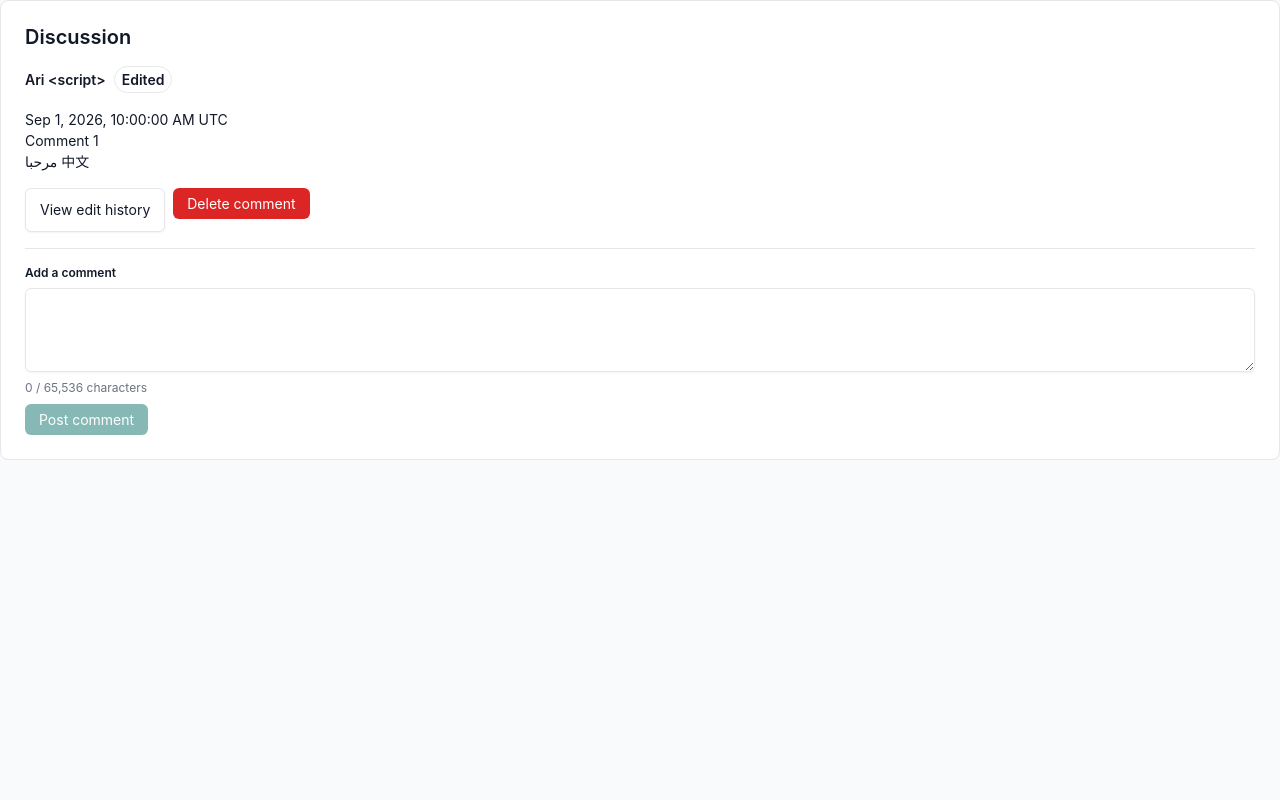
Test: Discussion lifecycle authority › lets only an administrator confirm deletion and replaces success with the server tombstone
Step 1. Click the button "Delete comment" → (241,203), box [173,188,310,219]
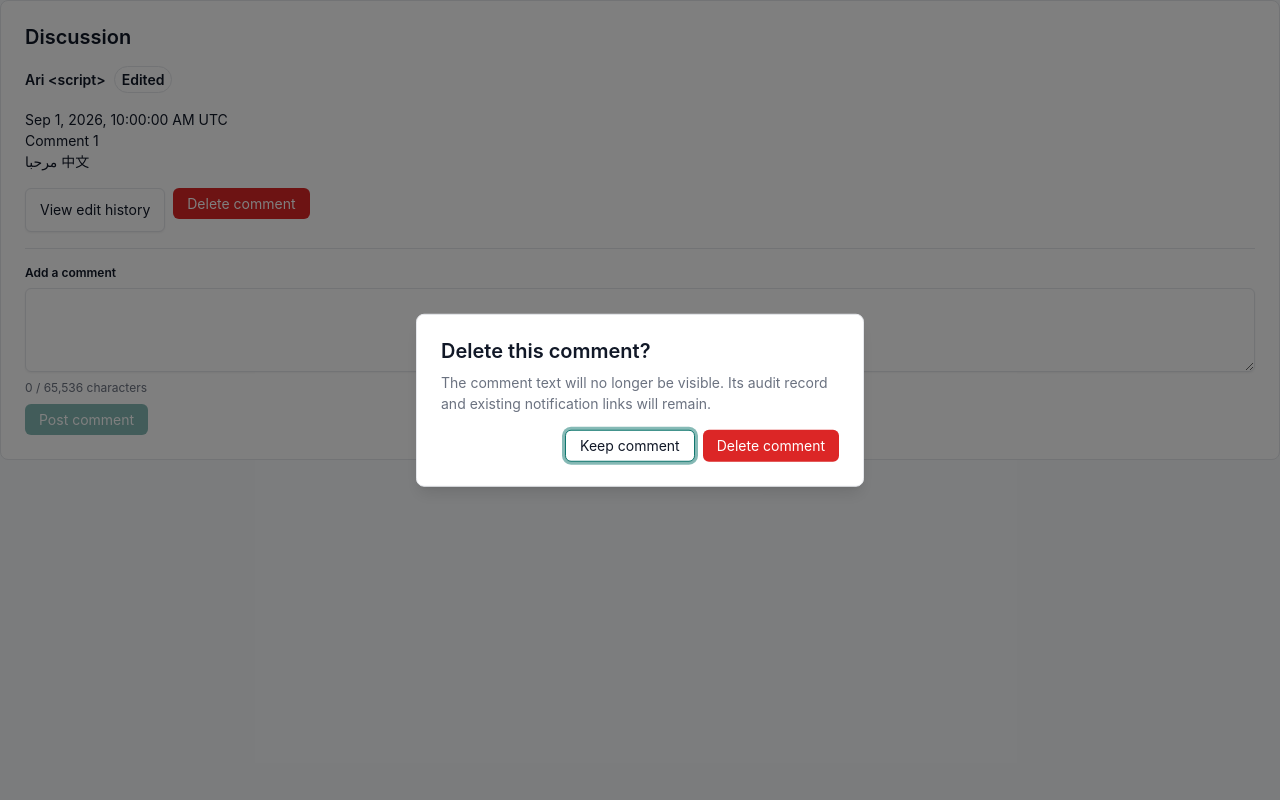
Now the dialog "Delete this comment?" shows "The comment text will no longer be visible. Its audit record and existing notification links will remain.", box [441,374,828,412]
Now the button "Keep comment" is shown, box [565,430,695,461]
Step 2. Click the button "Delete comment" → (771,446), box [703,430,839,461]
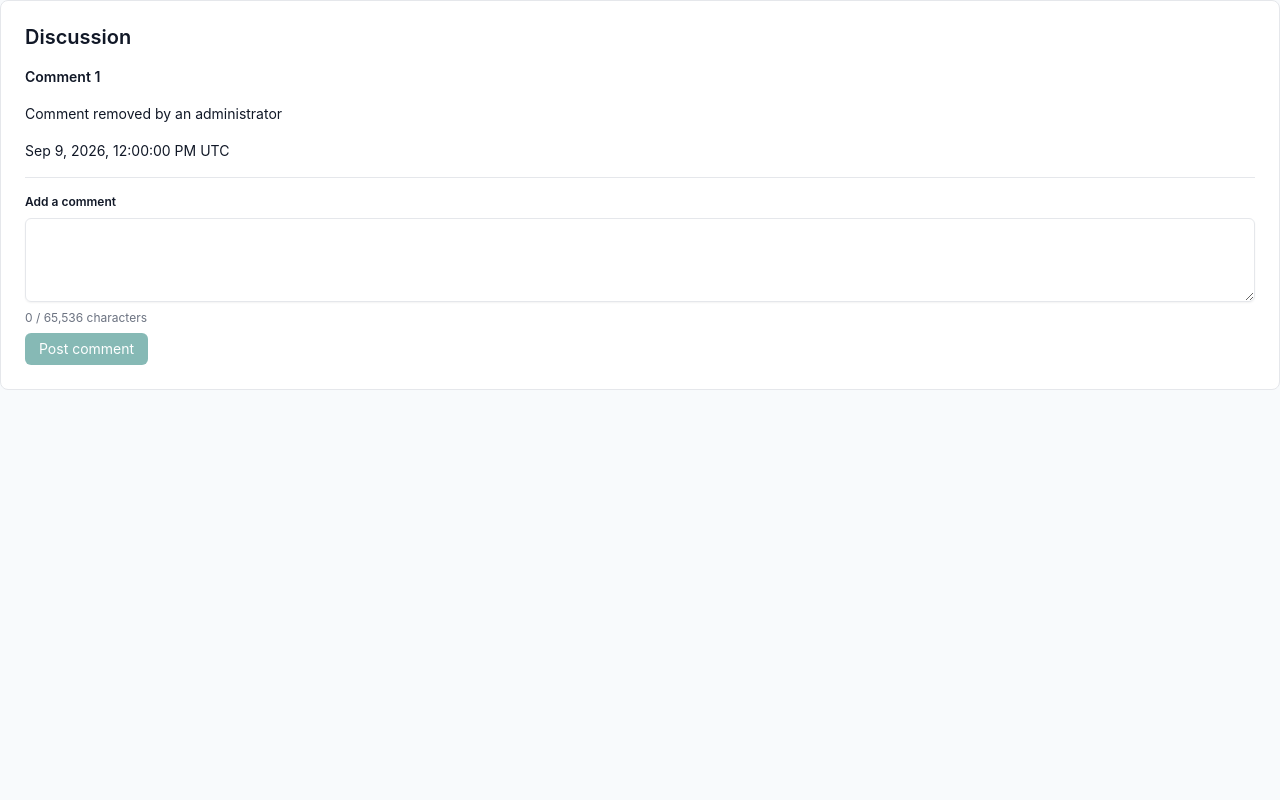
Now the text "مرحبا 中文" is gone
Now the button "View edit history" is gone
